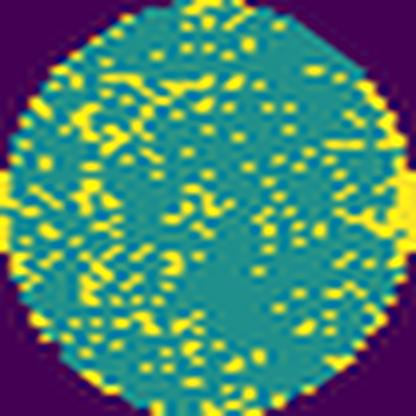Edge-Loc: (334, 154, 415, 286)
